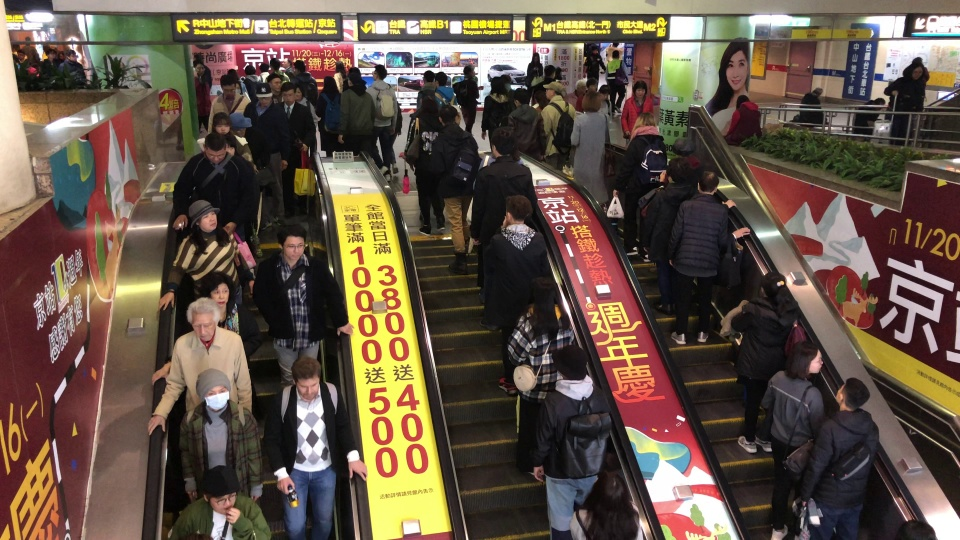person_head: (512, 278, 582, 476), (200, 464, 240, 515), (191, 367, 236, 410), (184, 297, 221, 341), (290, 355, 325, 399), (273, 223, 308, 260), (199, 270, 234, 307), (550, 345, 589, 378), (834, 376, 870, 407), (792, 341, 824, 374), (497, 195, 533, 224), (187, 199, 219, 231), (595, 472, 629, 502), (201, 132, 228, 164), (488, 127, 516, 157), (759, 271, 788, 296), (694, 170, 719, 196), (527, 278, 554, 302), (667, 157, 688, 182), (579, 91, 602, 112), (254, 82, 274, 106), (211, 112, 231, 135), (436, 104, 459, 123), (633, 112, 657, 129), (672, 137, 692, 156), (219, 74, 236, 96), (281, 82, 297, 104), (370, 64, 390, 81), (512, 87, 529, 106), (543, 81, 563, 97), (631, 80, 648, 98), (267, 73, 283, 91), (490, 75, 507, 91), (422, 108, 440, 122), (909, 63, 924, 79), (345, 73, 362, 87), (322, 75, 337, 90), (225, 136, 236, 156), (598, 84, 611, 100), (292, 60, 307, 73), (294, 84, 306, 100), (434, 72, 447, 86), (572, 78, 587, 90), (462, 65, 478, 76), (735, 94, 751, 105), (543, 64, 556, 77), (192, 60, 205, 72), (421, 70, 434, 82), (66, 49, 77, 61), (269, 58, 280, 70), (585, 78, 598, 88), (229, 68, 240, 79), (530, 51, 541, 62), (874, 96, 885, 107), (244, 65, 257, 74), (46, 48, 56, 59), (502, 74, 512, 85), (810, 86, 823, 94), (16, 49, 26, 59), (334, 61, 345, 70), (611, 49, 620, 60), (281, 59, 293, 67), (235, 82, 243, 93), (259, 63, 268, 72), (589, 47, 598, 53), (915, 57, 924, 63)
person_vbox: (271, 355, 373, 540), (528, 344, 619, 539), (252, 223, 352, 392), (665, 170, 756, 345), (754, 341, 833, 540), (144, 297, 253, 436), (653, 157, 738, 314), (802, 376, 883, 540), (733, 271, 805, 453), (471, 127, 538, 303), (181, 368, 263, 503), (155, 270, 251, 376), (475, 197, 548, 329), (171, 133, 259, 232), (616, 112, 672, 262), (432, 104, 481, 275), (172, 464, 271, 540), (244, 82, 291, 231), (167, 199, 244, 276), (273, 82, 315, 222), (337, 73, 388, 176), (409, 109, 449, 238), (569, 91, 614, 205), (568, 472, 643, 540), (366, 64, 406, 179), (544, 81, 582, 169), (884, 63, 924, 146), (507, 87, 550, 161), (480, 75, 519, 154), (213, 111, 261, 175), (619, 81, 664, 146), (313, 75, 346, 156), (206, 74, 249, 136), (409, 70, 439, 149), (725, 94, 761, 147), (460, 65, 486, 136), (604, 49, 629, 113), (192, 60, 213, 133), (290, 59, 319, 108), (799, 86, 831, 126), (856, 96, 886, 135), (532, 64, 558, 108), (293, 84, 318, 129), (524, 51, 543, 105), (60, 49, 89, 84), (598, 84, 614, 142), (244, 65, 261, 116), (583, 47, 605, 84), (902, 57, 931, 83), (566, 77, 588, 111), (228, 69, 251, 96), (332, 61, 348, 93), (43, 48, 60, 75), (16, 49, 32, 67), (258, 62, 269, 81)
